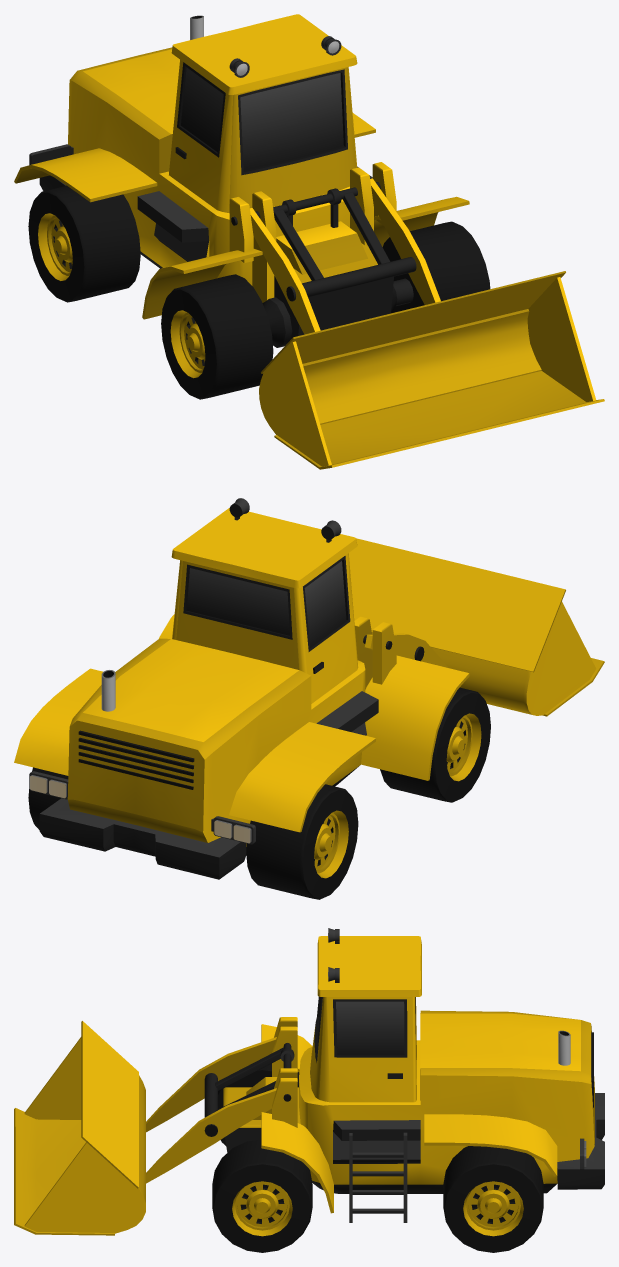
The model's file is TuiTuChe00.fbx.
3 renders of one model, top to bottom at view 1: azimuth 30°, elevation 25°; view 2: azimuth 150°, elevation 25°; view 3: azimuth 270°, elevation 25°, orthographic. The views are drawn at different scales.
Parts seen in each view (by area): view 1: TuiTuChe00; view 2: TuiTuChe00; view 3: TuiTuChe00.
Boxes of the visible parts, x1,y1,x2,y2 form: TuiTuChe00: (14,14,604,469); TuiTuChe00: (14,498,604,899); TuiTuChe00: (14,928,604,1252).
Size of the model in its own units: 391 by 371 by 803.
